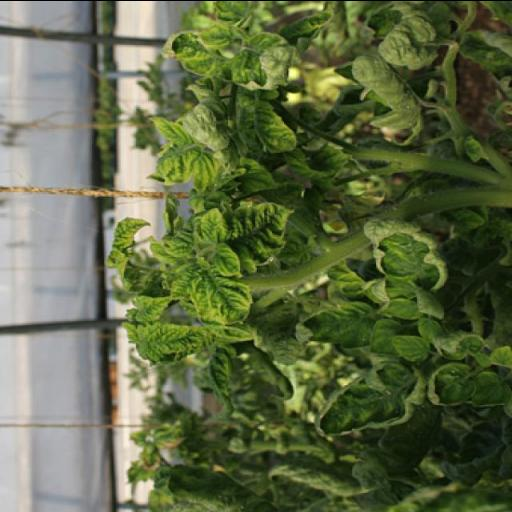Yellow Leaf Curl Virus: (110, 196, 292, 362), (139, 112, 254, 194), (312, 358, 418, 438), (170, 228, 252, 322), (362, 216, 446, 302), (120, 322, 258, 362), (219, 197, 291, 261), (242, 85, 296, 159)
